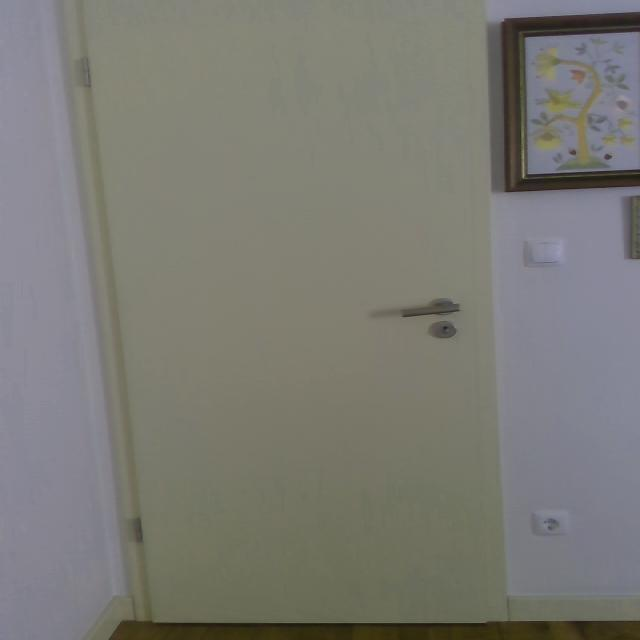door: (73, 0, 508, 625)
